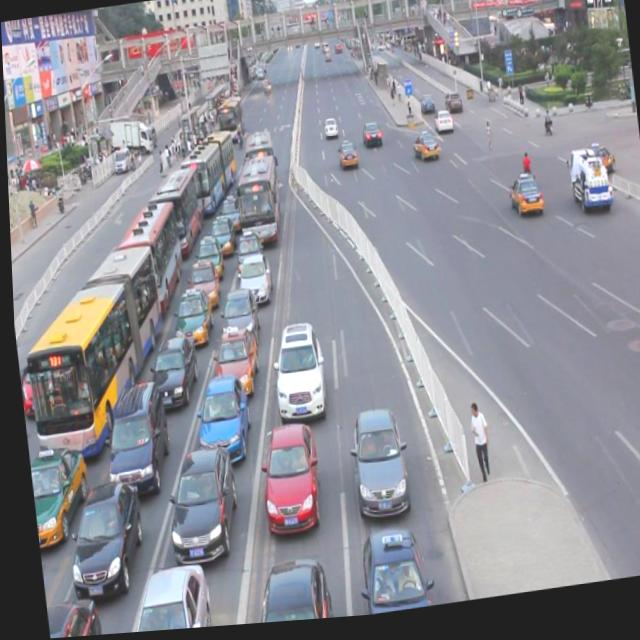bus: (560, 152, 609, 224)
car: (56, 472, 143, 588), (157, 437, 236, 557), (93, 372, 167, 487), (347, 523, 426, 621), (112, 554, 205, 635), (340, 403, 406, 514), (251, 419, 317, 525), (238, 552, 324, 627), (23, 437, 85, 539), (264, 317, 323, 417), (188, 368, 247, 455), (143, 325, 195, 402), (204, 321, 255, 393), (39, 586, 95, 639), (213, 283, 257, 344), (167, 282, 211, 341), (15, 357, 62, 412), (234, 247, 269, 299), (181, 252, 217, 302), (503, 177, 540, 221), (189, 229, 221, 275), (230, 224, 258, 271), (212, 187, 241, 228), (204, 208, 231, 249), (585, 147, 612, 183), (409, 135, 437, 168), (334, 143, 355, 172), (359, 125, 380, 151), (430, 114, 450, 138), (441, 96, 460, 120), (320, 121, 337, 144), (417, 99, 431, 118)
van: (9, 238, 169, 455), (105, 192, 183, 313), (174, 120, 235, 207), (230, 152, 280, 250), (148, 158, 199, 250), (242, 133, 278, 192)
